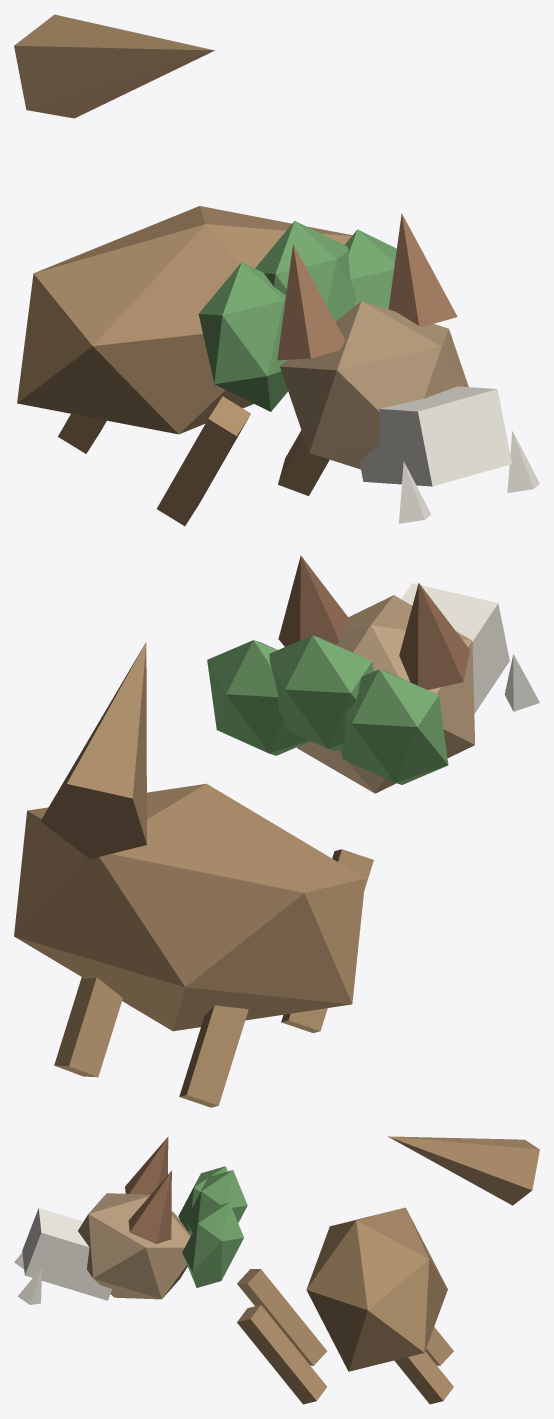
Rendered from npcpose_wolf_attack_06.glb.
The picture shows the model from 3 angles, top to bottom: view 1: azimuth 30°, elevation 25°; view 2: azimuth 150°, elevation 25°; view 3: azimuth 270°, elevation 25°; orthographic projection. The views are drawn at different scales.
Parts seen in each view (by area): view 1: npcpose; view 2: npcpose; view 3: npcpose.
Part boxes in pixels (x1,y1,x2,y2): npcpose: [14, 14, 539, 526]; npcpose: [14, 555, 539, 1107]; npcpose: [14, 1136, 539, 1404].
Size of the model in its own units: 0.8873 by 1.04 by 1.91.
